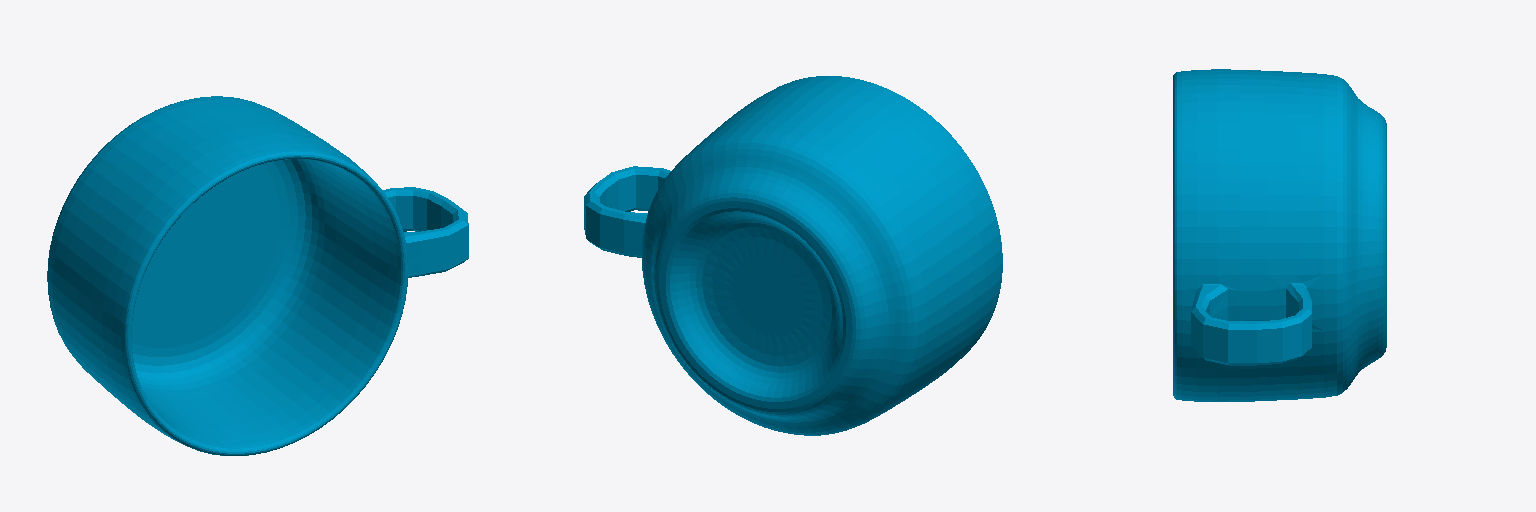
The model's file is coffee_cup.obj.
3 renders of one model, left to right at view 1: azimuth 30°, elevation 25°; view 2: azimuth 150°, elevation 25°; view 3: azimuth 270°, elevation 25°, orthographic.
Visible parts, largest first — view 1: Coffee_cup_withe_; view 2: Coffee_cup_withe_; view 3: Coffee_cup_withe_.
Part boxes in pixels (left/top/right/bottom): Coffee_cup_withe_: left=47, top=96, right=468, bottom=455; Coffee_cup_withe_: left=584, top=76, right=1002, bottom=435; Coffee_cup_withe_: left=1173, top=69, right=1386, bottom=401.
Size of the model in its own units: 101 by 78.89 by 50.49.